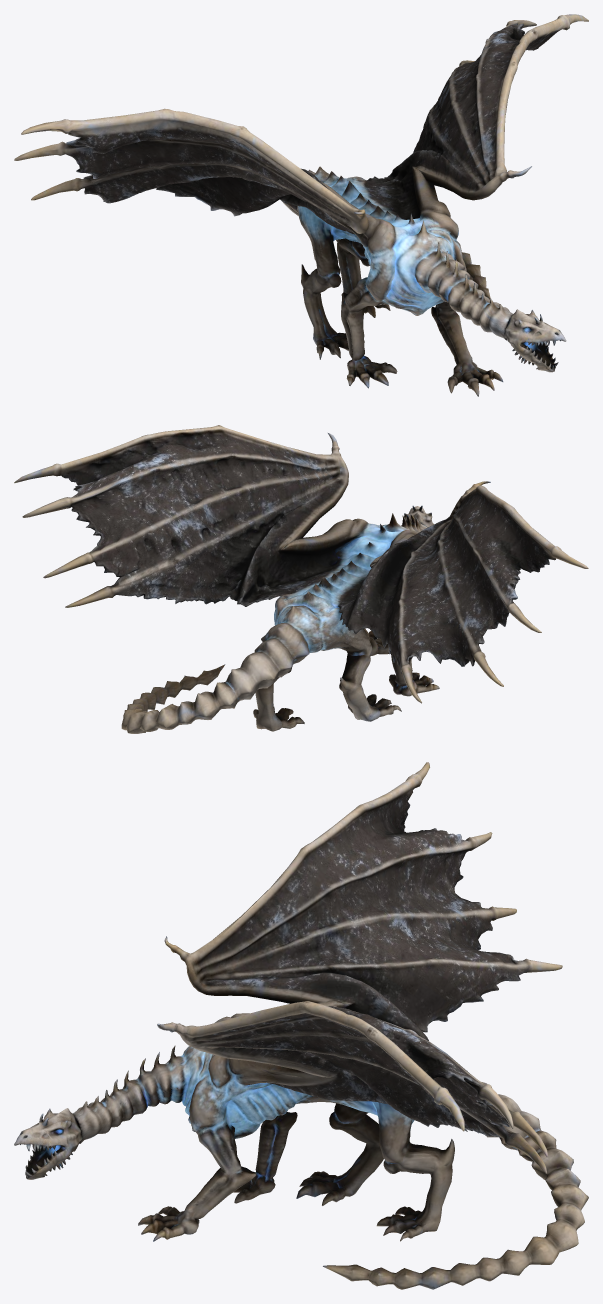
File: MZ4250 - DracolichWhite.glb
3 views of the same model, one above another, from view 1: azimuth 30°, elevation 25°; view 2: azimuth 150°, elevation 25°; view 3: azimuth 270°, elevation 25° (orthographic). The views are drawn at different scales.
Parts seen in each view (by area): view 1: WhiteDracolich.001; view 2: WhiteDracolich.001; view 3: WhiteDracolich.001.
Part boxes in pixels (x1,y1,x2,y2): WhiteDracolich.001: (14, 14, 588, 396); WhiteDracolich.001: (14, 425, 588, 733); WhiteDracolich.001: (14, 762, 588, 1289).
Size of the model in its own units: 253 by 111 by 191.
1 material, 1 textured.
